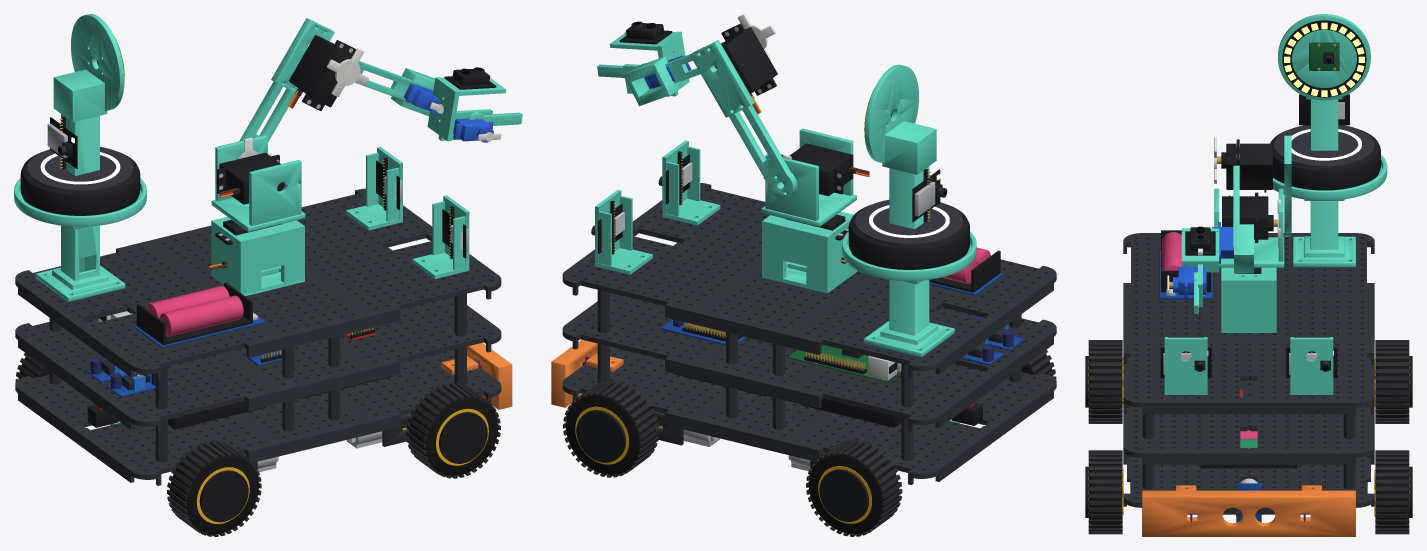
Rendered from bicho_V2.glb.
3 renders of one model, left to right at view 1: azimuth 30°, elevation 25°; view 2: azimuth 150°, elevation 25°; view 3: azimuth 270°, elevation 25°, orthographic. The views are drawn at different scales.
Visible parts, largest first — view 1: P20 cubierta.001, P20 superior.001, P20 inferior.001, Rueda 65 mm.006, Rueda 65 mm.004, Parlante omnidireccional.001, P07 Torreta.001, P03 Cara en la torre, P02 Torre, UPS LX-2BUPS.001, P08 Horquilla.001, Servo MG995.005 (+16 smaller); view 2: P20 cubierta.001, P20 inferior.001, P20 superior.001, Rueda 65 mm.007, Rueda 65 mm.005, Parlante omnidireccional.001, P03 Cara en la torre, P02 Torre, P07 Torreta.001, P09 Eslabón 1.001, P08 Horquilla.001, Servo MG995.005 (+15 smaller); view 3: P20 cubierta.001, P20 superior.001, P05 Parachoques.001, P20 inferior.001, Parlante omnidireccional.001, P02 Torre, P03 Cara en la torre, P07 Torreta.001, Rueda 65 mm.006, Rueda 65 mm.007, Rueda 65 mm.004, Rueda 65 mm.005 (+19 smaller).
Part boxes in pixels (x1,y1,x2,y2): P20 cubierta.001: (15,188,501,379); P20 superior.001: (15,247,501,432); P20 inferior.001: (15,349,501,485); Rueda 65 mm.006: (406,383,500,478); Rueda 65 mm.004: (167,441,261,536); Parlante omnidireccional.001: (20,147,140,215); P07 Torreta.001: (211,216,304,295); P03 Cara en la torre: (53,14,124,122); P02 Torre: (35,114,125,301); UPS LX-2BUPS.001: (134,282,264,347); P08 Horquilla.001: (211,135,305,231); Servo MG995.005: (288,35,368,110); P20 cubierta.001: (562,183,1056,377); P20 inferior.001: (562,346,1056,484); P20 superior.001: (562,242,1056,431); Rueda 65 mm.007: (563,380,659,477); Rueda 65 mm.005: (806,439,902,536); Parlante omnidireccional.001: (848,200,969,269); P03 Cara en la torre: (864,64,936,174); P02 Torre: (863,166,954,357); P07 Torreta.001: (762,211,857,293); P09 Eslabón 1.001: (690,40,797,198); P08 Horquilla.001: (761,128,856,226); Servo MG995.005: (715,14,777,113); P20 cubierta.001: (1123,233,1374,414); P20 superior.001: (1123,357,1374,464); P05 Parachoques.001: (1142,485,1355,536); P20 inferior.001: (1123,407,1374,514); Parlante omnidireccional.001: (1270,125,1380,190); P02 Torre: (1293,99,1355,267); P03 Cara en la torre: (1278,14,1370,100); P07 Torreta.001: (1221,267,1276,332); Rueda 65 mm.006: (1085,450,1123,534); Rueda 65 mm.007: (1374,450,1412,534); Rueda 65 mm.004: (1085,340,1123,423); Rueda 65 mm.005: (1374,340,1412,423).
Size of the model in its own units: 0.3749 by 0.3549 by 0.2604.
